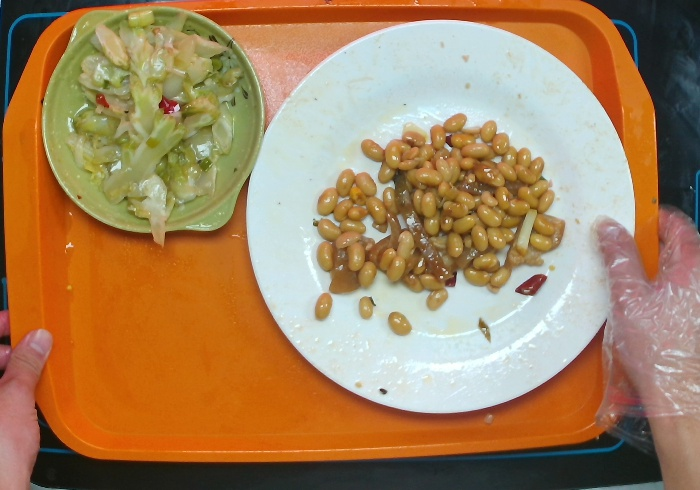NLDX-Da_Yuan_Pan: (239, 16, 638, 416)
NLDX-Lv_Hua_Shuang_Er_Die: (36, 2, 266, 236)
